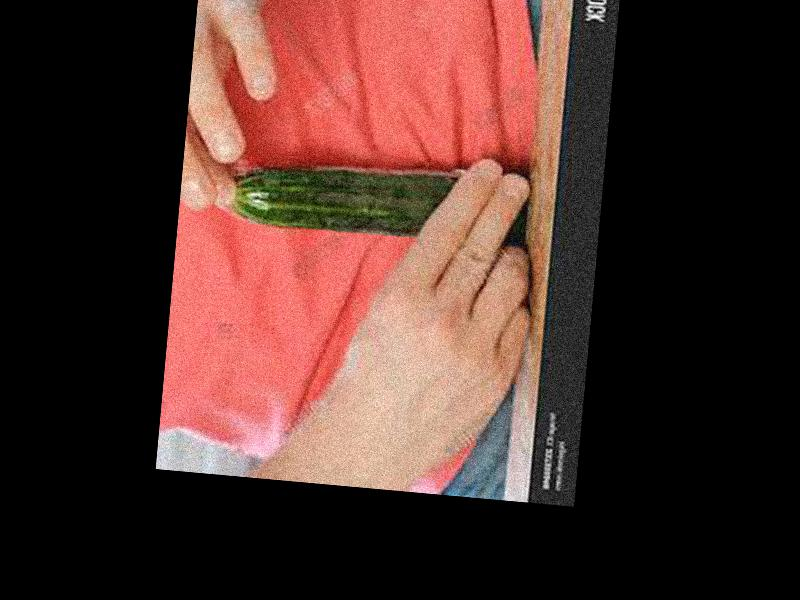Cucumber: (231, 153, 460, 244)
